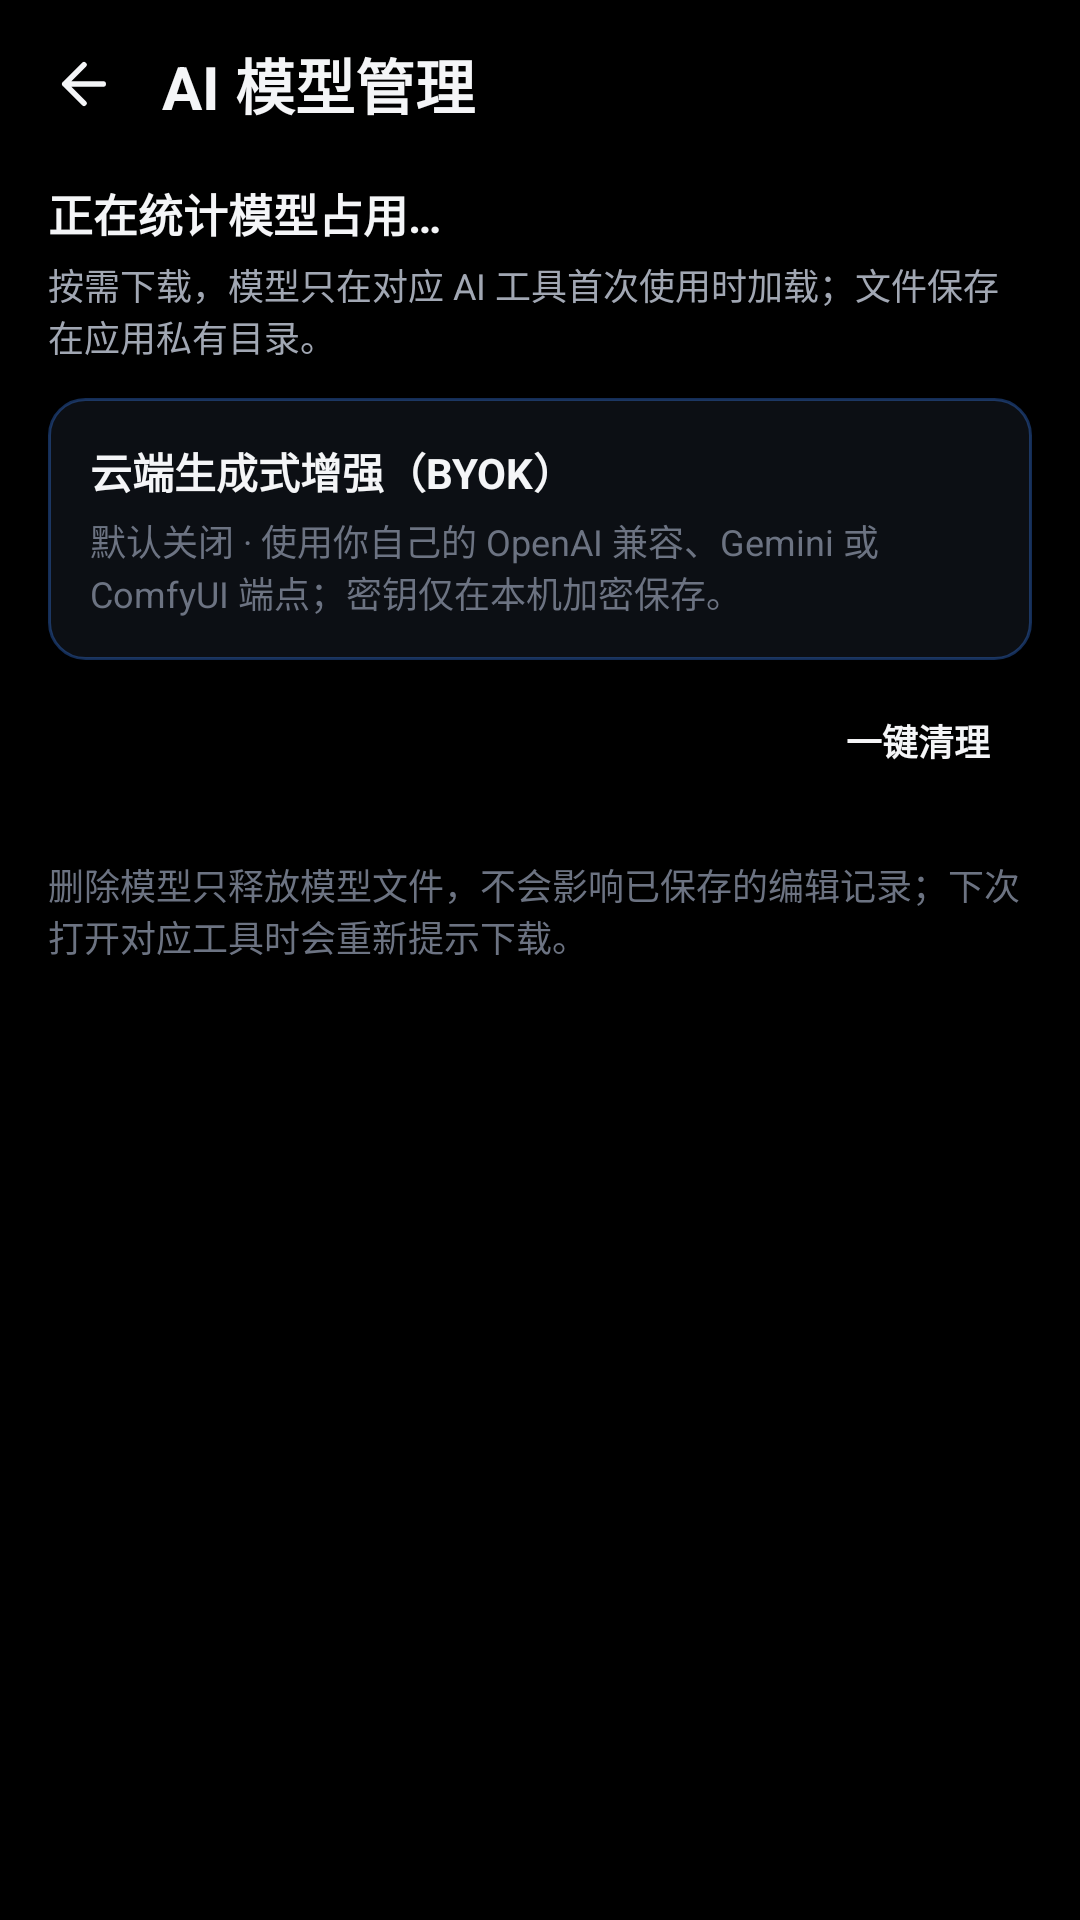

Icon bounding boxes for this 1080 x 1920 phone screenshot, format bbox=(x1, y1, x2, y2):
返回: bbox=(62, 62, 106, 106)
